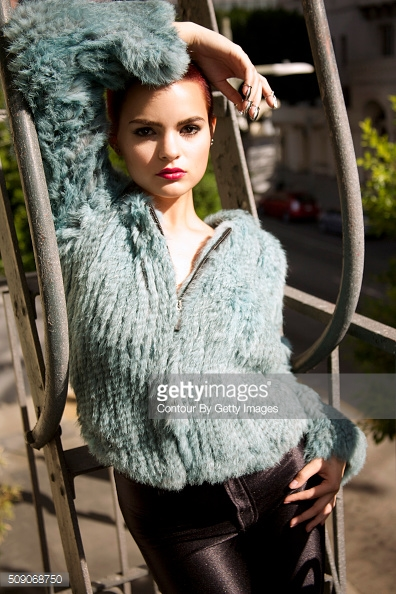em pe: (33, 57, 313, 589)
